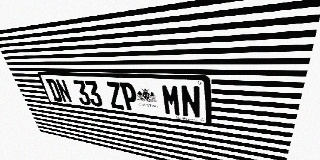3: (84, 80, 103, 107), (73, 80, 92, 106)
D: (45, 79, 63, 102)
M: (161, 84, 182, 117)
N: (180, 85, 201, 119), (55, 79, 73, 103)
P: (119, 82, 139, 111)
Z: (105, 81, 125, 110)
